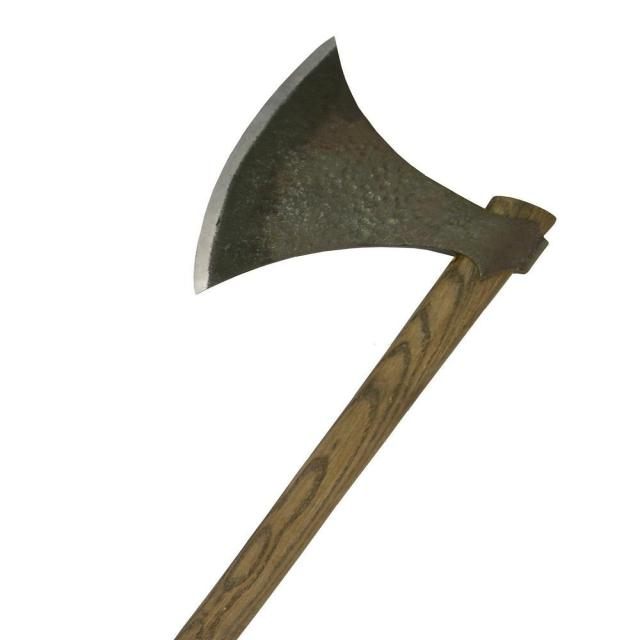Kapak: (109, 27, 561, 640)
